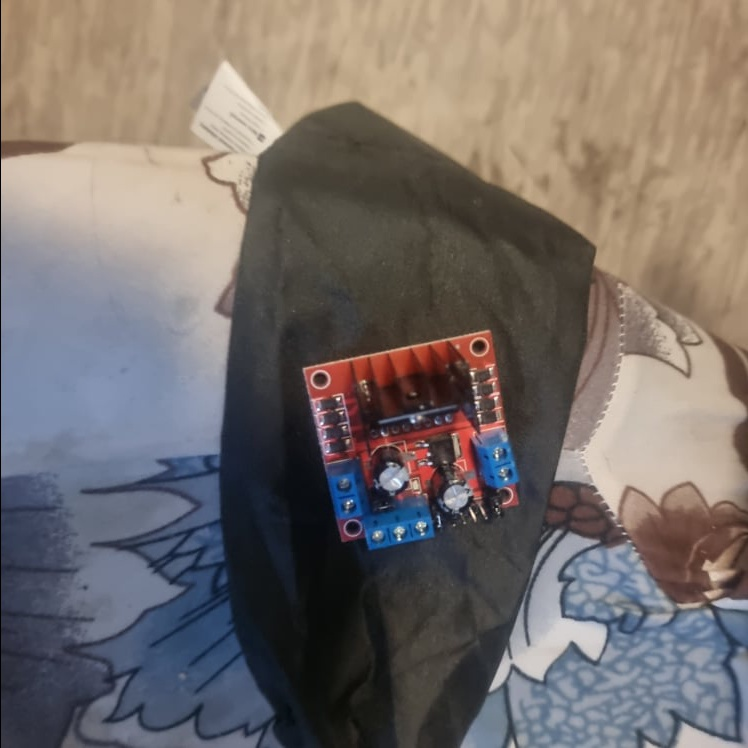MOTOR: (295, 323, 523, 554)
